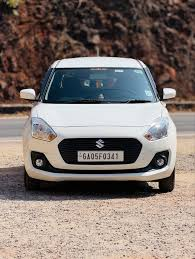Swift: (21, 55, 181, 193)
